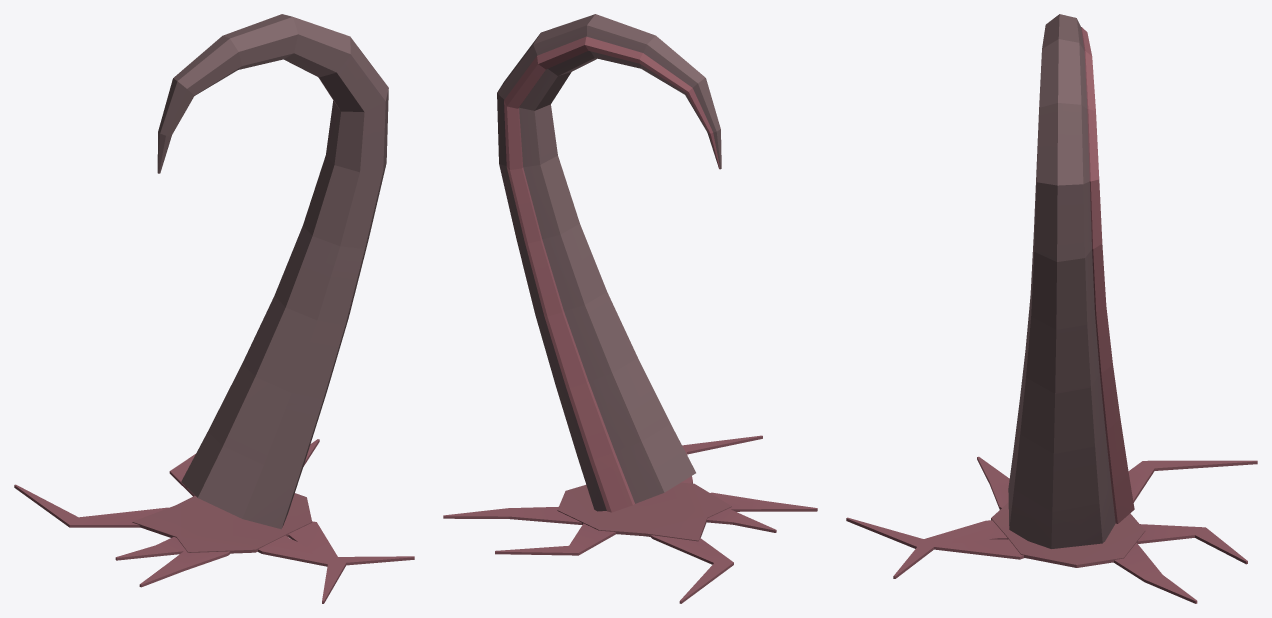
Rendered from PT_ArenaTentacleHook.glb.
The picture shows the model from 3 angles, left to right: view 1: azimuth 30°, elevation 25°; view 2: azimuth 150°, elevation 25°; view 3: azimuth 270°, elevation 25°; orthographic projection. The views are drawn at different scales.
Parts seen in each view (by area): view 1: Body; view 2: Body; view 3: Body.
Part boxes in pixels (left/top/right/bottom): Body: left=14, top=14, right=414, bottom=603; Body: left=443, top=14, right=817, bottom=603; Body: left=846, top=14, right=1257, bottom=603.
Bounding box in the file's own units: 11.31 × 18.82 × 13.45.
